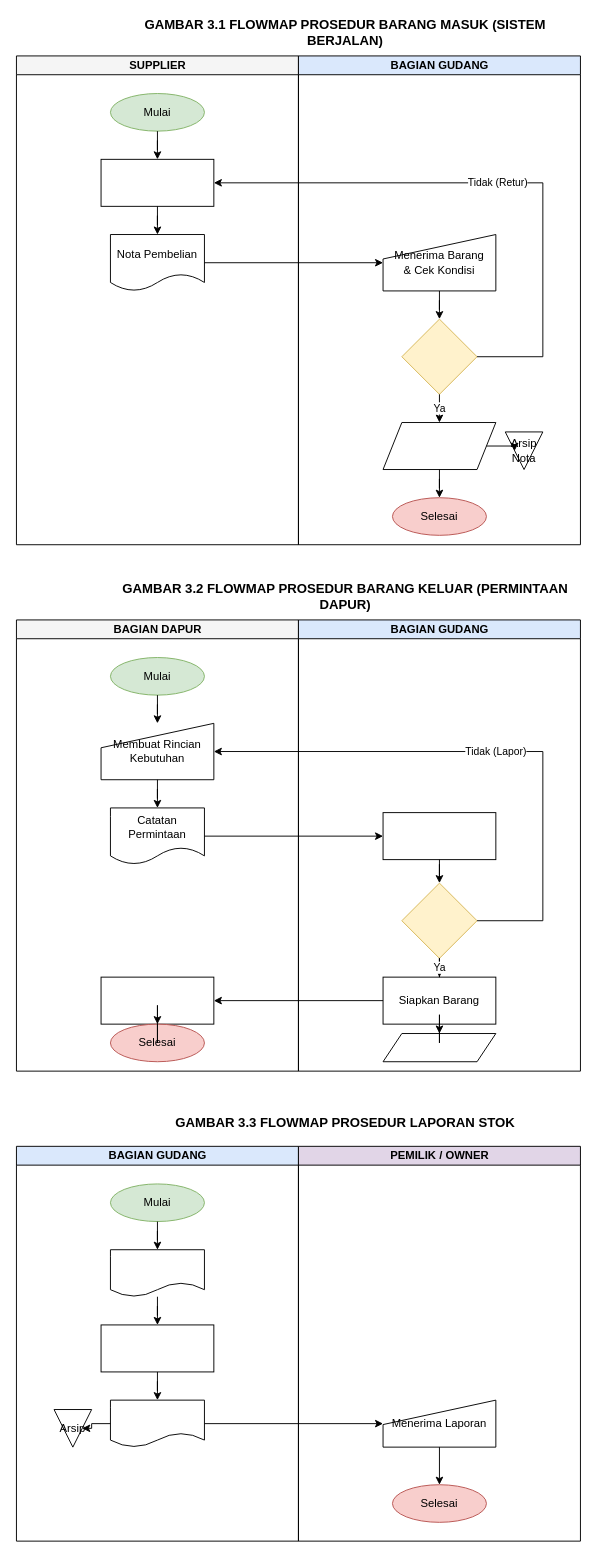
The diagram is 597 pixels wide and 1558 high, and some of its shapes have lost their labels. Each missing label, with the centre of its shape:
"Ada?" goes at pixel 439 920.
"Buku Stok" goes at pixel 157 1273.
"Catat Buku Stok Keluar" goes at pixel 439 1047.
"Catat di Buku Stok Masuk" goes at pixel 439 446.
"Cek Stok Fisik" goes at pixel 439 836.
"Laporan Stok" goes at pixel 157 1423.
"Menerima Barang" goes at pixel 157 1000.
"Menyiapkan Barang & Nota" goes at pixel 157 182.
"Rekapitulasi & Cek Fisik (Manual)" goes at pixel 157 1348.
"Sesuai?" goes at pixel 439 356.
